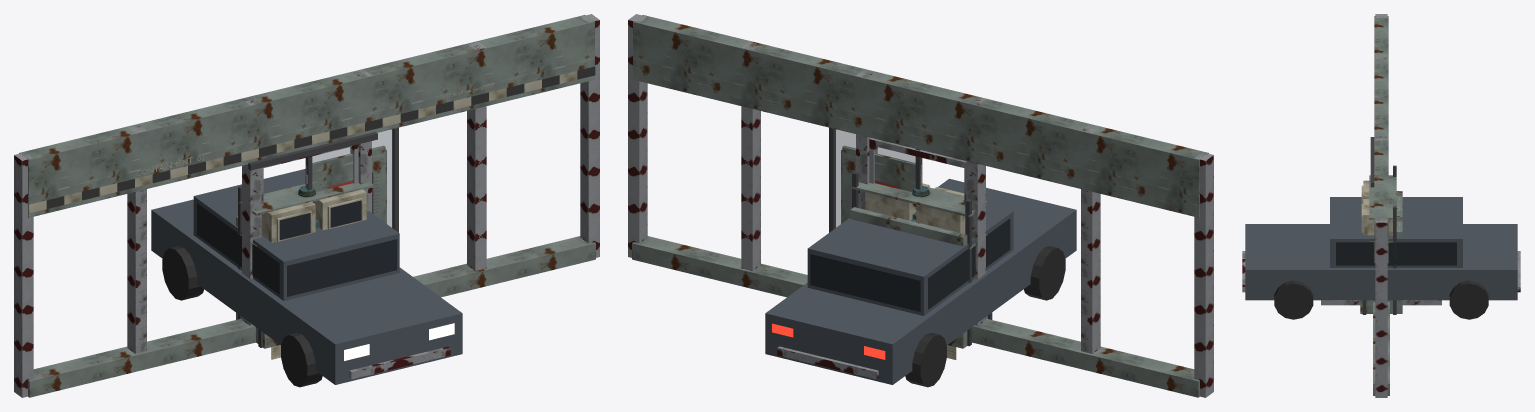
File: items.glb
3 renders of one model, left to right at view 1: azimuth 30°, elevation 25°; view 2: azimuth 150°, elevation 25°; view 3: azimuth 270°, elevation 25°, orthographic. The views are drawn at different scales.
Visible parts, largest first — view 1: containment_frame, car, cctv_rack, door_metal, door_entrance; view 2: containment_frame, car, cctv_rack, door_metal, door_entrance, control_console, containment_door; view 3: car, containment_frame, cctv_rack, control_console, restraint_bed.
Part boxes in pixels (<box>): containment_frame: <box>14,14,599,397</box>; car: <box>151,169,462,387</box>; cctv_rack: <box>238,182,373,347</box>; door_metal: <box>306,145,385,222</box>; door_entrance: <box>305,127,398,232</box>; containment_frame: <box>628,14,1213,397</box>; car: <box>765,178,1076,387</box>; cctv_rack: <box>852,171,992,346</box>; door_metal: <box>842,145,921,222</box>; door_entrance: <box>829,127,922,232</box>; control_console: <box>850,207,987,348</box>; containment_door: <box>869,138,966,205</box>; car: <box>1242,197,1520,319</box>; containment_frame: <box>1370,14,1389,397</box>; cctv_rack: <box>1361,165,1396,314</box>; control_console: <box>1360,191,1402,313</box>; restraint_bed: <box>1321,300,1441,305</box>.
Bounding box in the file's own units: 8.16 × 3.65 × 4.6.
42 materials, 16 textured.
